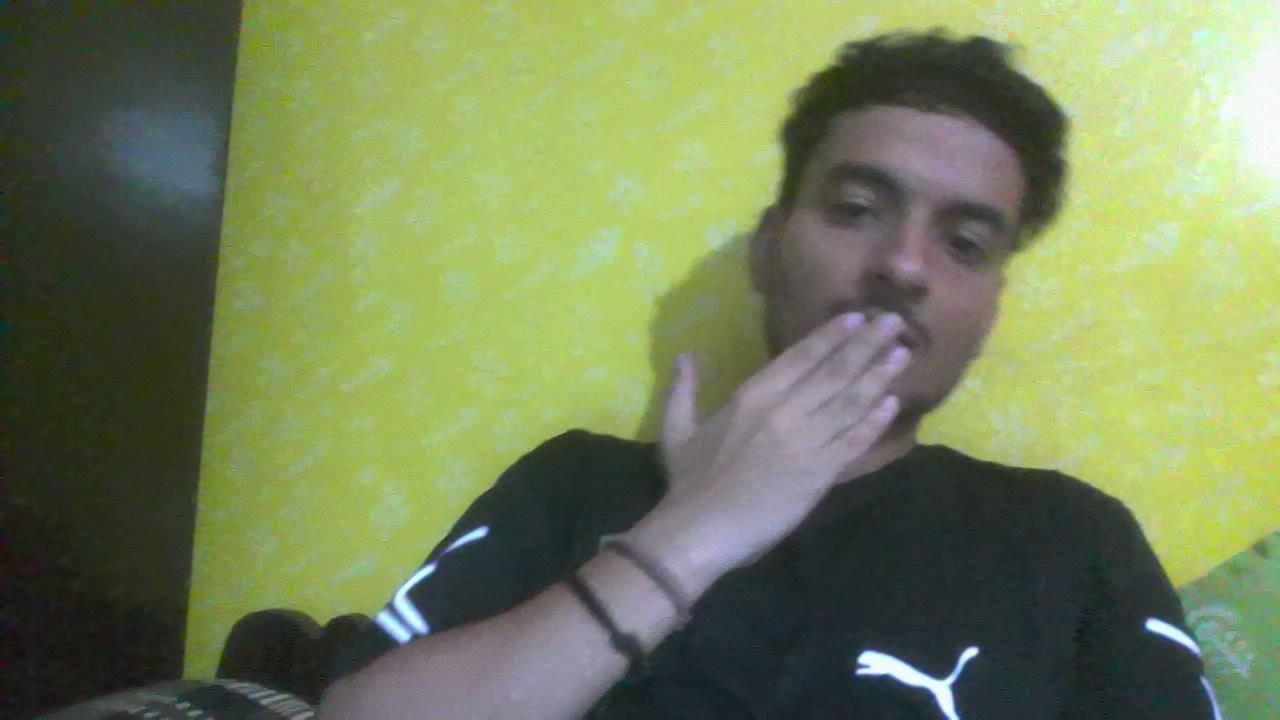Thank You: (636, 273, 946, 563)
